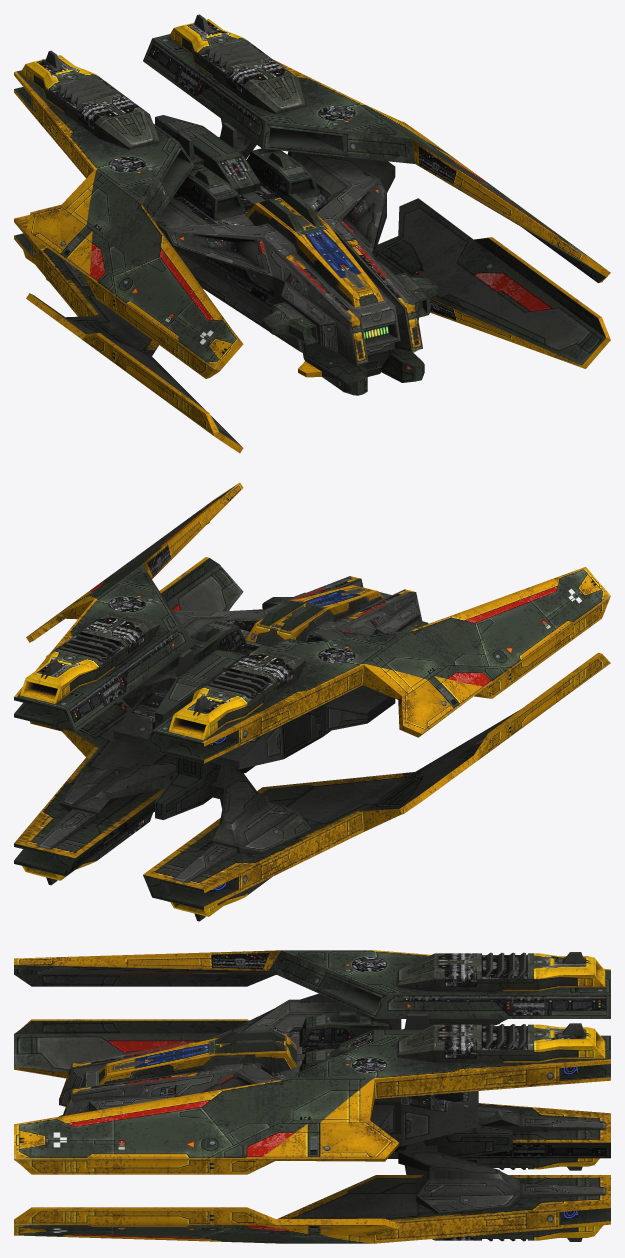
File: ship_sm.gltf
3 views of the same model, one above another, from view 1: azimuth 30°, elevation 25°; view 2: azimuth 150°, elevation 25°; view 3: azimuth 270°, elevation 25° (orthographic).
Parts seen in each view (by area): view 1: MK6_OBJ; view 2: MK6_OBJ; view 3: MK6_OBJ.
Boxes of the visible parts, x1=… form: MK6_OBJ: x1=14, y1=14, x2=610, y2=453; MK6_OBJ: x1=14, y1=482, x2=610, y2=921; MK6_OBJ: x1=14, y1=950, x2=610, y2=1243.
Size of the model in its own units: 29.23 by 15.6 by 38.82.
Materials: 1 (1 with a texture image).
